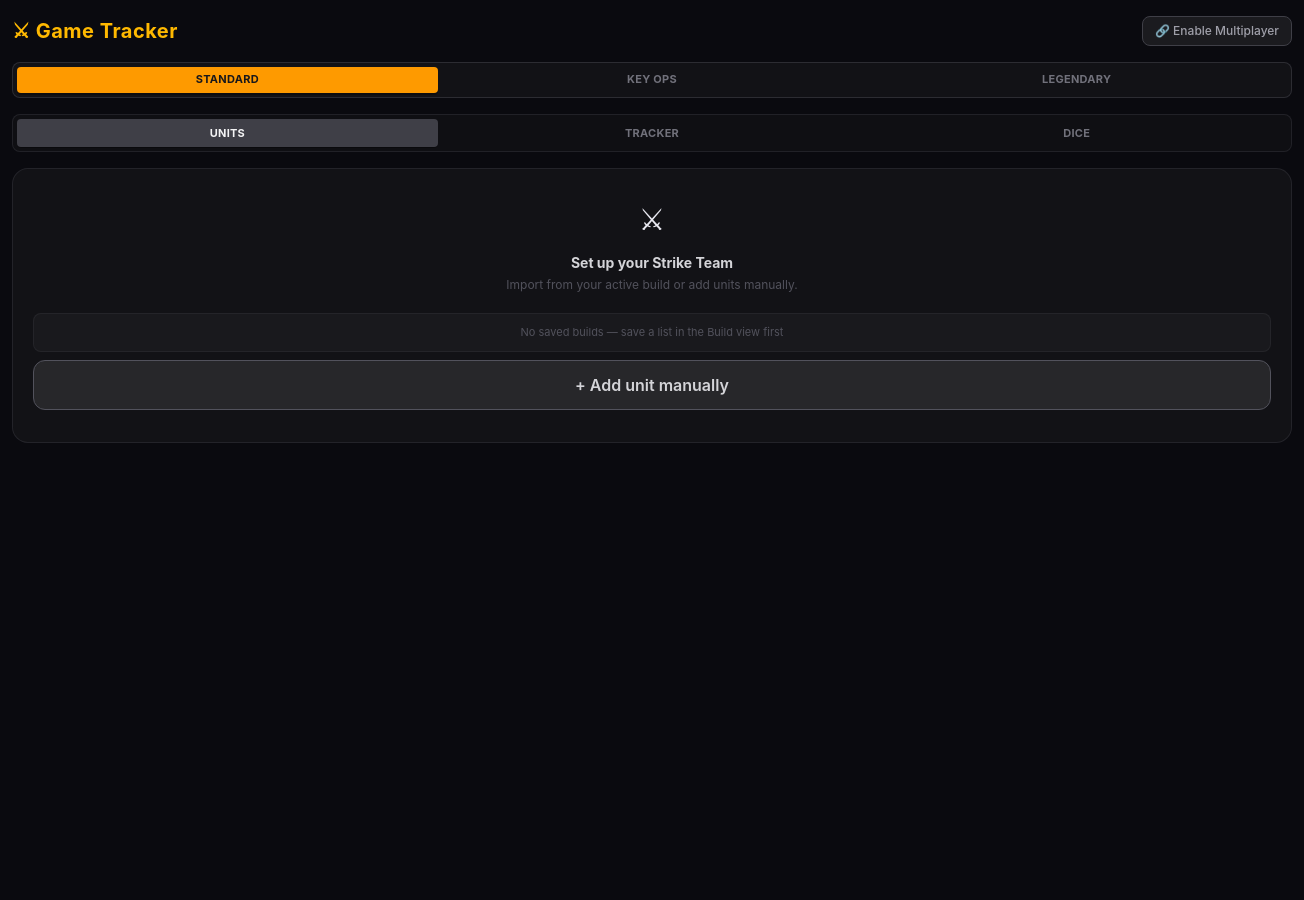
Test: PlayView › key operations mode › switching to Key Ops mode shows KO picker
Click the button "Key Ops". click: (652, 80)
box: [442,67,862,93]
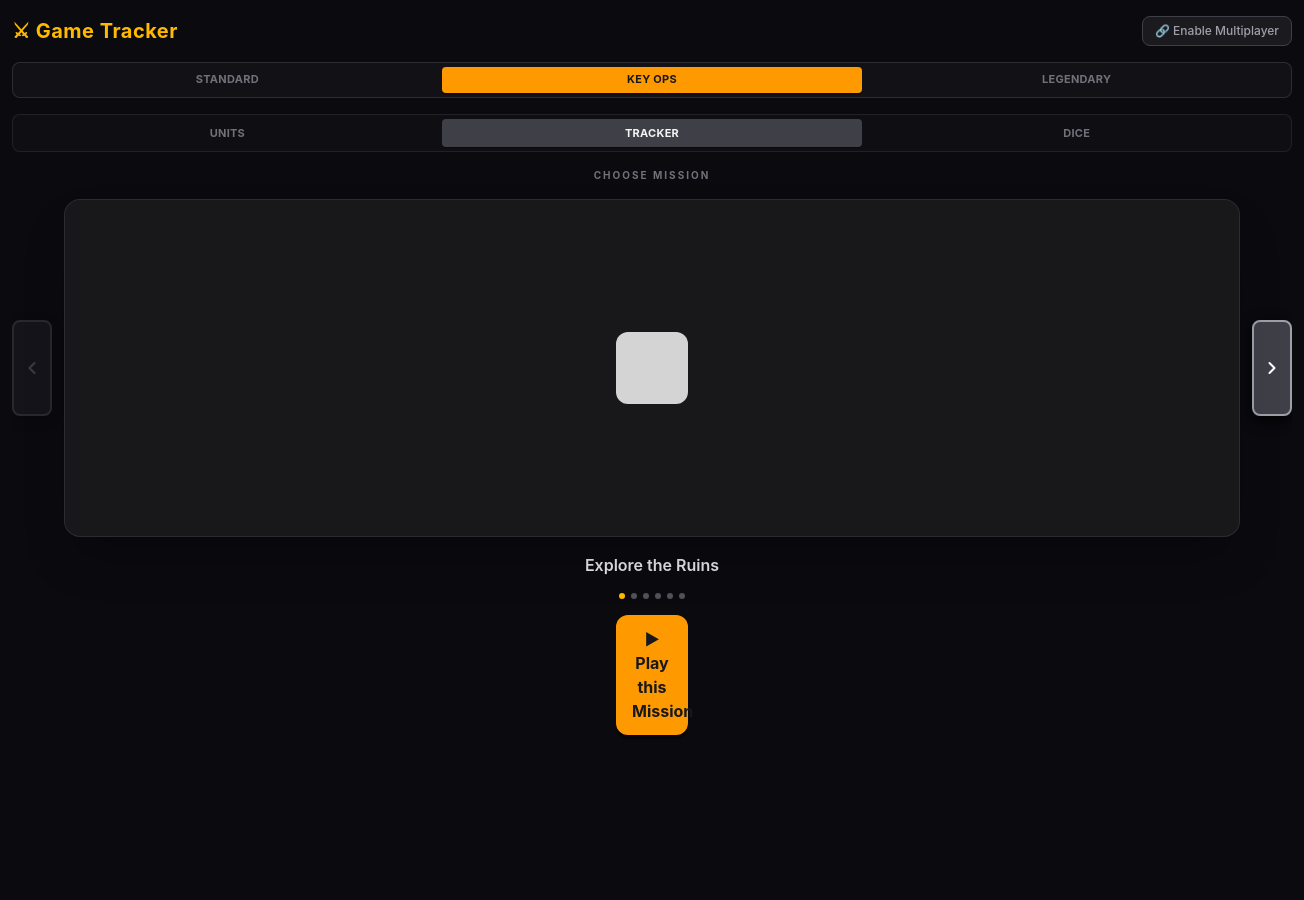
expect the text "Choose Mission" is shown: met, box [594,169,710,181]
